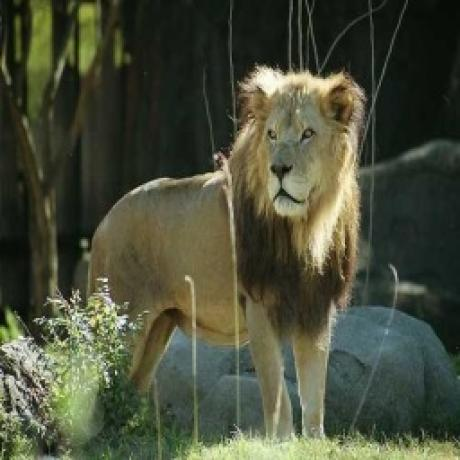Lion: (84, 60, 368, 445)
